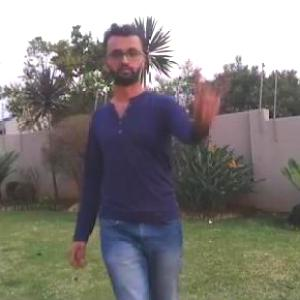takeoff-hand: (187, 66, 233, 127)
